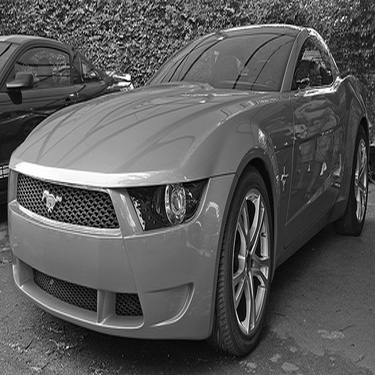car: (14, 39, 375, 339), (5, 28, 134, 149)
